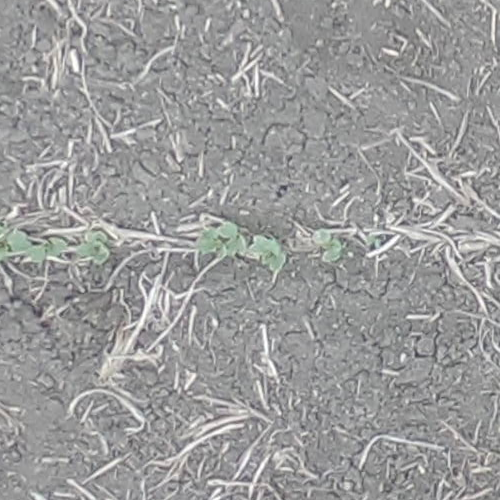plant: (0, 214, 32, 270), (197, 221, 247, 254), (248, 235, 285, 271), (78, 230, 109, 264), (32, 239, 68, 264), (313, 229, 341, 261), (367, 236, 384, 249)
